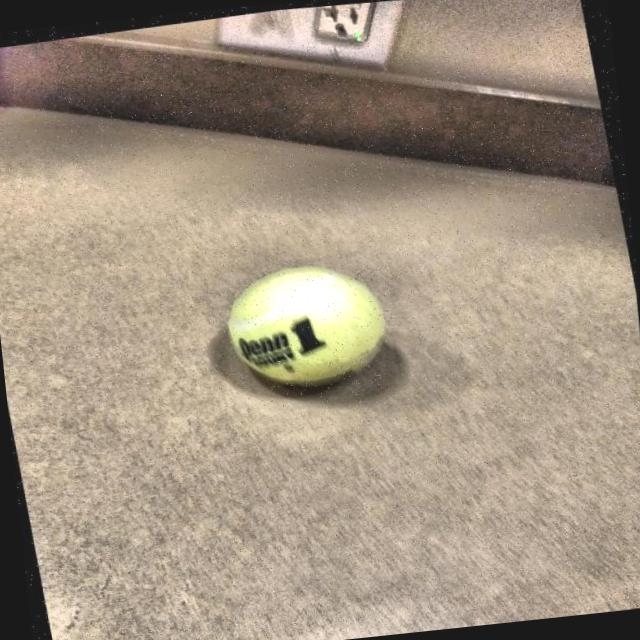Tennis Ball: (210, 246, 404, 408)
